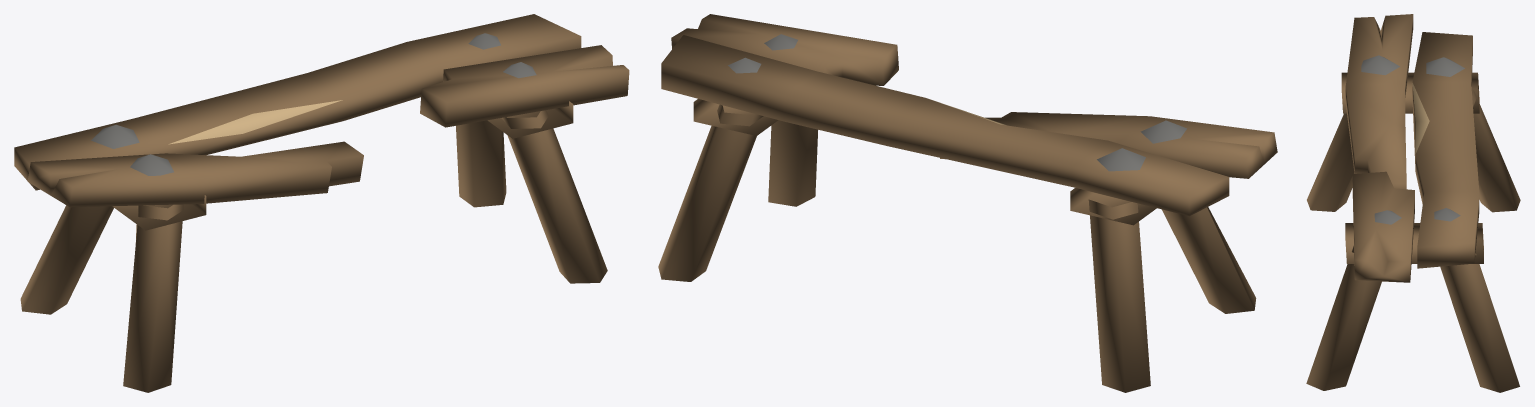
Rendered from rpgpp_av_bench_wood_04b.gltf.
3 renders of one model, left to right at view 1: azimuth 30°, elevation 25°; view 2: azimuth 150°, elevation 25°; view 3: azimuth 270°, elevation 25°, orthographic. The views are drawn at different scales.
Visible parts, largest first — view 1: rpgpp_av_bench_wood_04b; view 2: rpgpp_av_bench_wood_04b; view 3: rpgpp_av_bench_wood_04b.
Boxes of the visible parts, box(x1,y1,x2,y2) form: rpgpp_av_bench_wood_04b: box(14, 14, 629, 392); rpgpp_av_bench_wood_04b: box(658, 14, 1277, 392); rpgpp_av_bench_wood_04b: box(1306, 14, 1520, 392).
Bounding box in the file's own units: 0.0132 × 0.00434 × 0.00513.
1 material, 1 textured.
